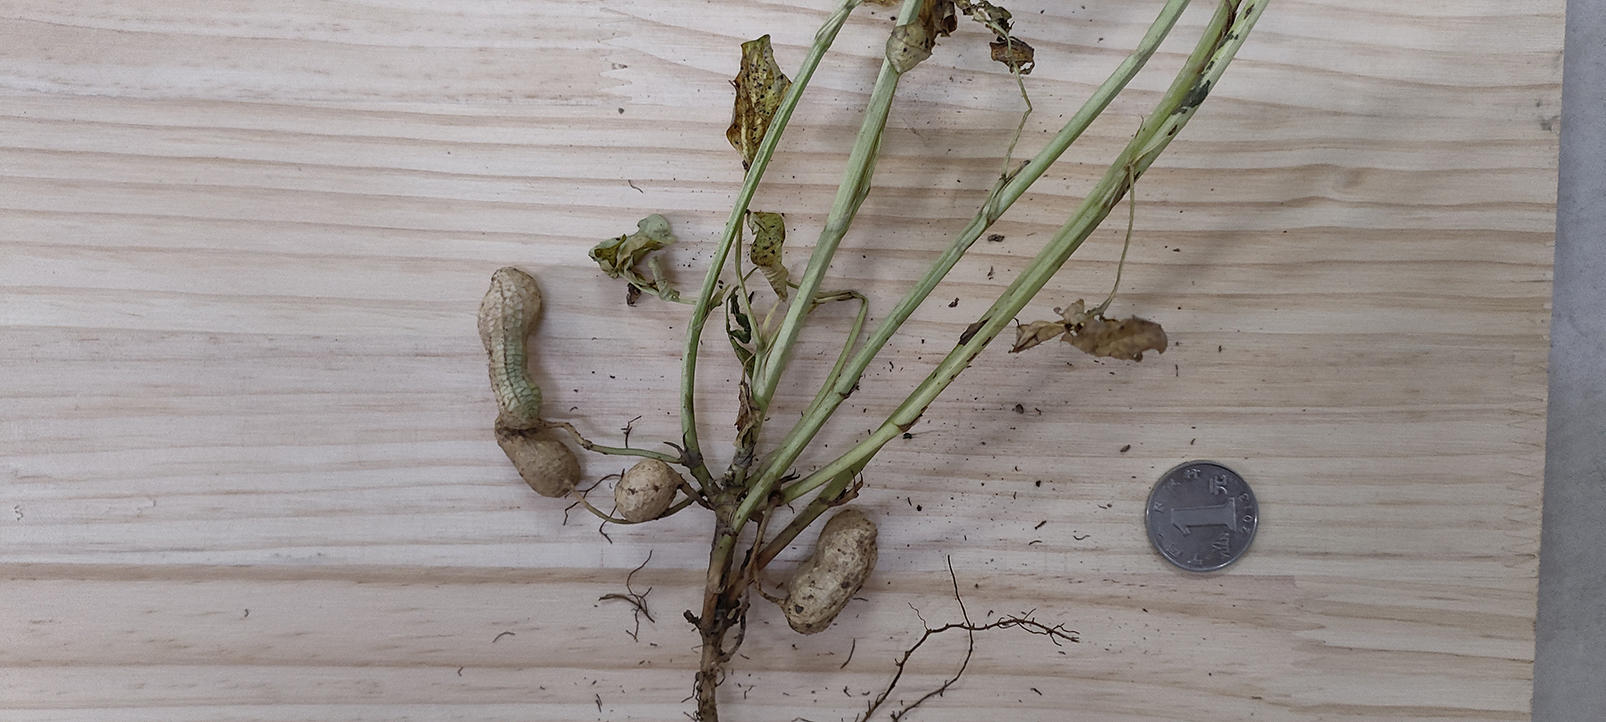h: (787, 512, 877, 636), (477, 267, 542, 428), (498, 432, 582, 497), (615, 459, 678, 523)
